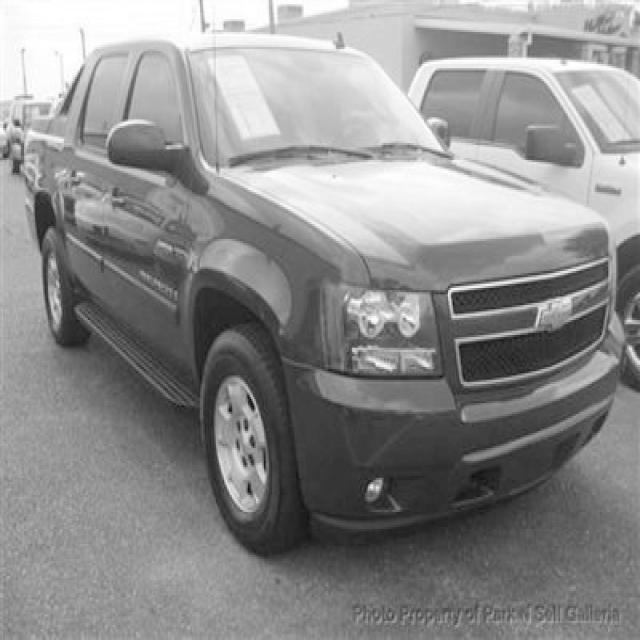car: (21, 26, 627, 554), (406, 57, 640, 396)
